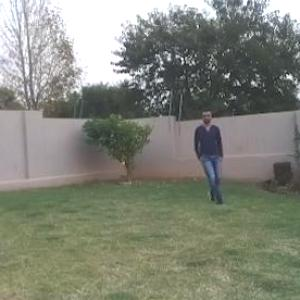follow: (195, 107, 227, 208)
